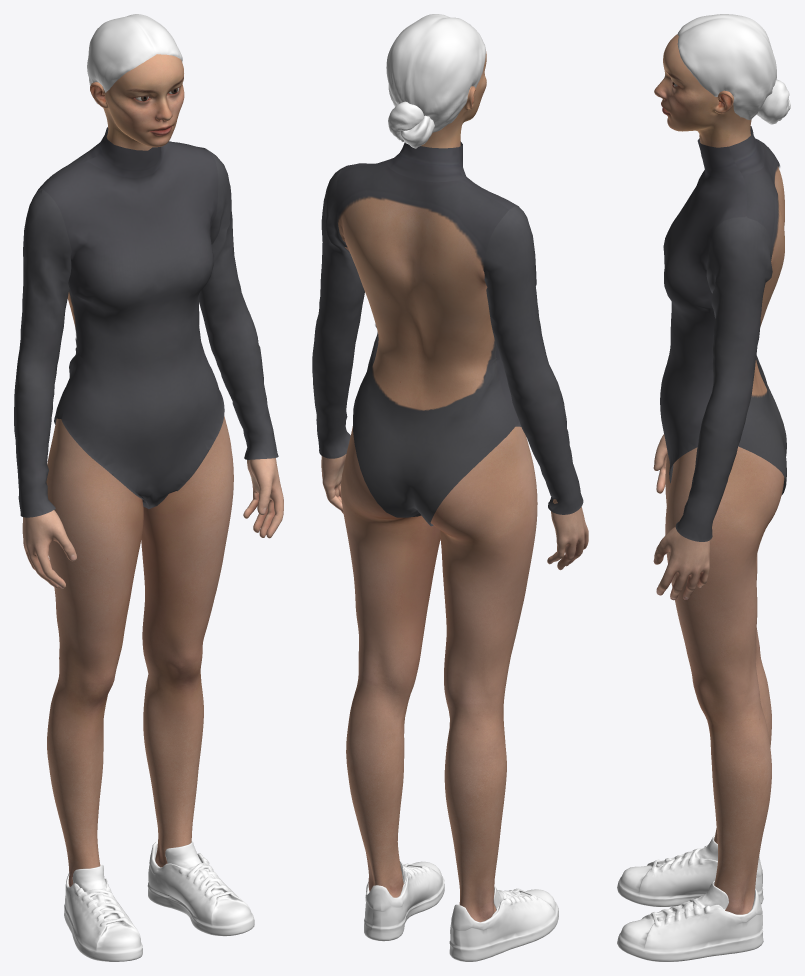
3 renders of one model, left to right at view 1: azimuth 30°, elevation 25°; view 2: azimuth 150°, elevation 25°; view 3: azimuth 270°, elevation 25°, orthographic. The views are drawn at different scales.
Parts seen in each view (by area): view 1: body (×5), shoes_l_Shape, shoes_r_Shape, hair_Shape; view 2: body (×5), hair_Shape, shoes_r_Shape, shoes_l_Shape; view 3: body (×5), hair_Shape, shoes_l_Shape, shoes_r_Shape.
Boxes of the visible parts, <box> form: body (×5): <box>14,54,283,886</box>; shoes_l_Shape: <box>147,841,254,936</box>; shoes_r_Shape: <box>64,865,142,961</box>; hair_Shape: <box>87,14,182,103</box>; body (×5): <box>312,51,588,922</box>; hair_Shape: <box>386,14,485,148</box>; shoes_r_Shape: <box>449,885,558,961</box>; shoes_l_Shape: <box>364,861,444,941</box>; body (×5): <box>653,34,786,914</box>; hair_Shape: <box>677,14,790,124</box>; shoes_l_Shape: <box>617,880,763,961</box>; shoes_r_Shape: <box>617,835,763,906</box>.
Size of the model in its own units: 0.5263 by 1.78 by 0.3098.
Materials: 11 (7 with a texture image).
